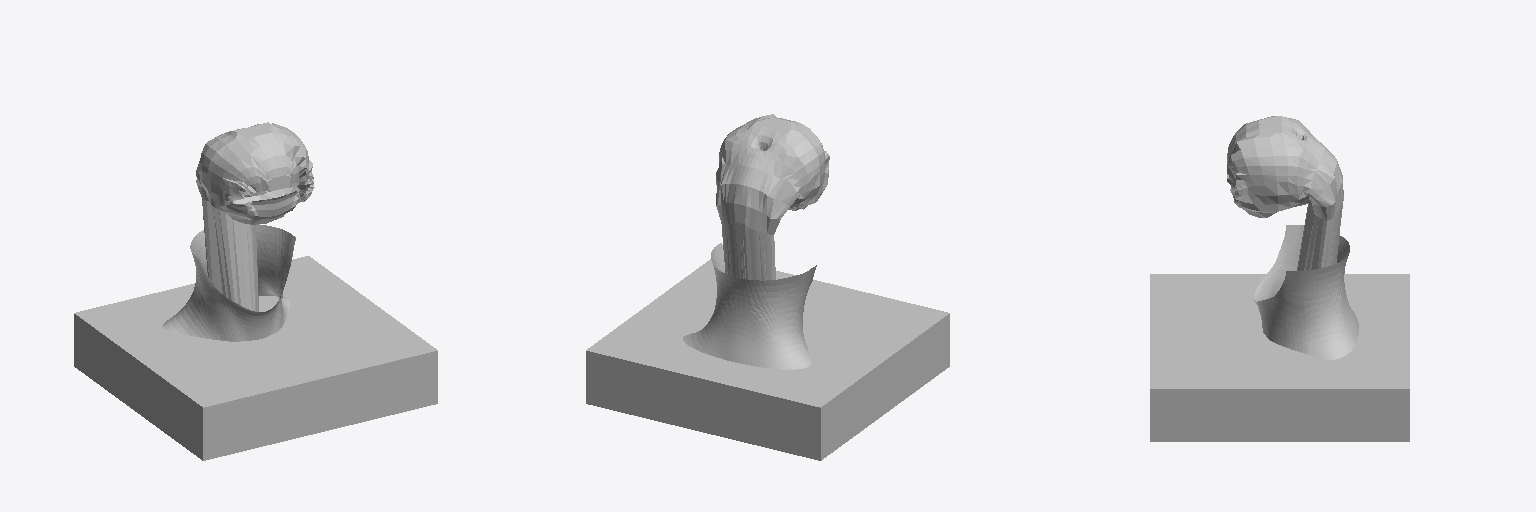
The model's file is newbasef_0.obj.
The picture shows the model from 3 angles: view 1: azimuth 30°, elevation 25°; view 2: azimuth 150°, elevation 25°; view 3: azimuth 270°, elevation 25°; orthographic projection.
Visible parts, largest first — view 1: object_1, Form5, neck; view 2: object_1, Form5, neck; view 3: object_1, Form5, neck.
Part boxes in pixels (x1,y1,x2,y2): object_1: (74,256,437,460); Form5: (196,122,314,311); neck: (162,224,295,341); object_1: (586,259,949,460); Form5: (716,114,829,280); neck: (683,243,816,369); object_1: (1150,274,1409,441); Form5: (1227,116,1343,270); neck: (1253,225,1358,359).
Bounding box in the file's own units: 0.1224 × 0.1291 × 0.1169.